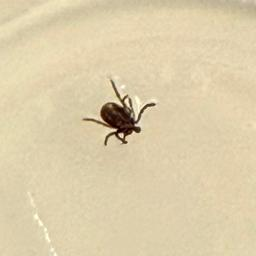Ixodes scapularis: (81, 80, 156, 146)
